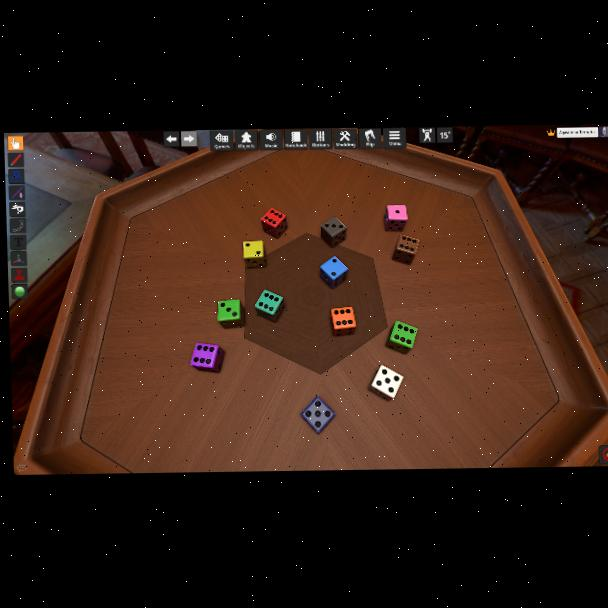d6: (368, 365, 403, 402), (299, 397, 331, 434), (386, 320, 419, 354), (190, 342, 225, 372), (253, 290, 285, 322), (392, 234, 420, 266), (260, 207, 287, 239), (320, 258, 346, 290), (320, 216, 346, 248), (217, 299, 244, 328), (330, 307, 356, 337), (383, 205, 408, 233), (243, 240, 267, 269)
